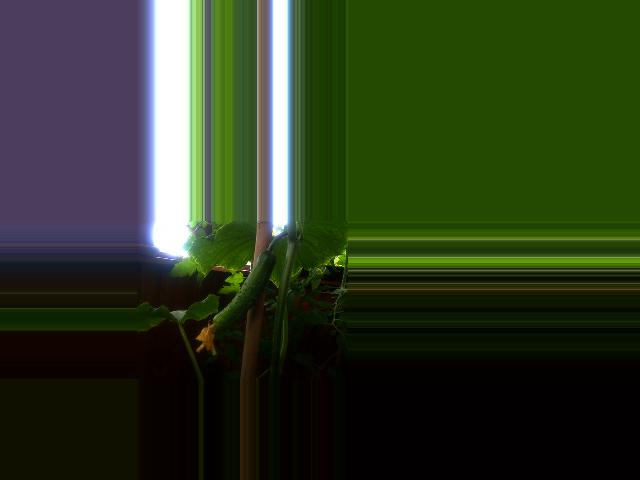cucumber: (194, 251, 275, 356)
